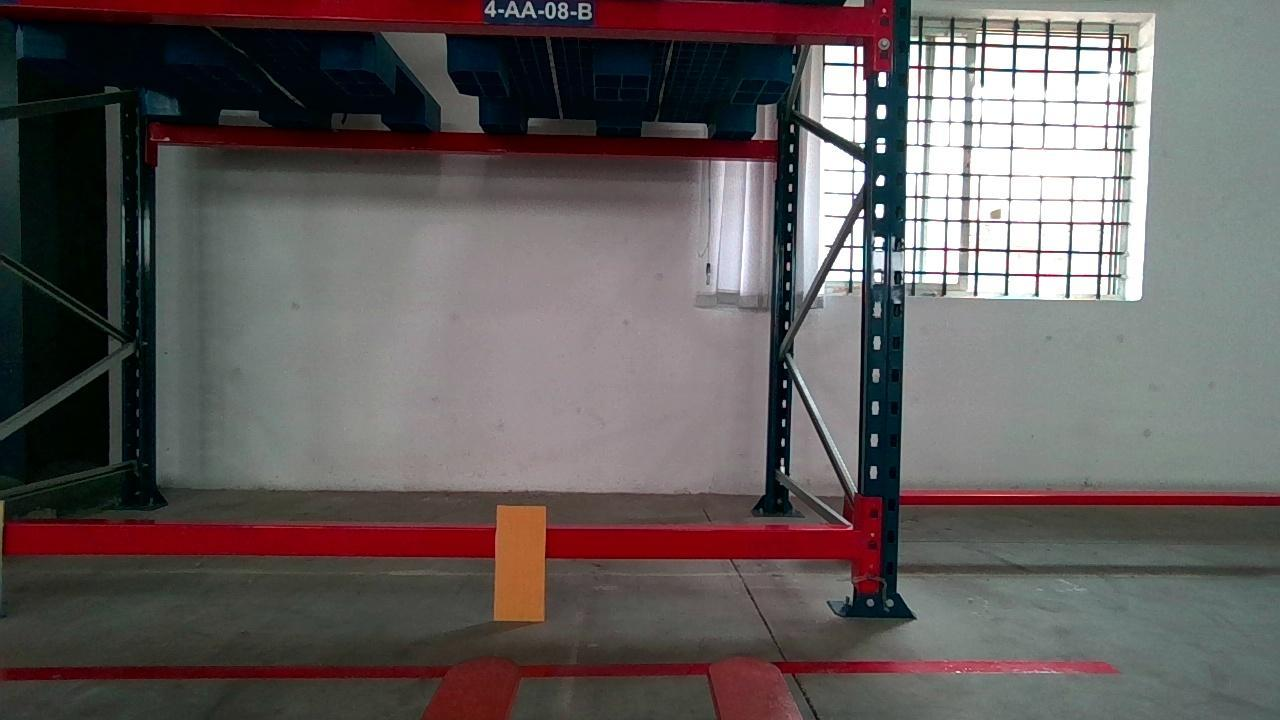h_rack: (6, 524, 858, 557)
orange_strip: (496, 504, 546, 618)
red_line: (2, 661, 1116, 678)
